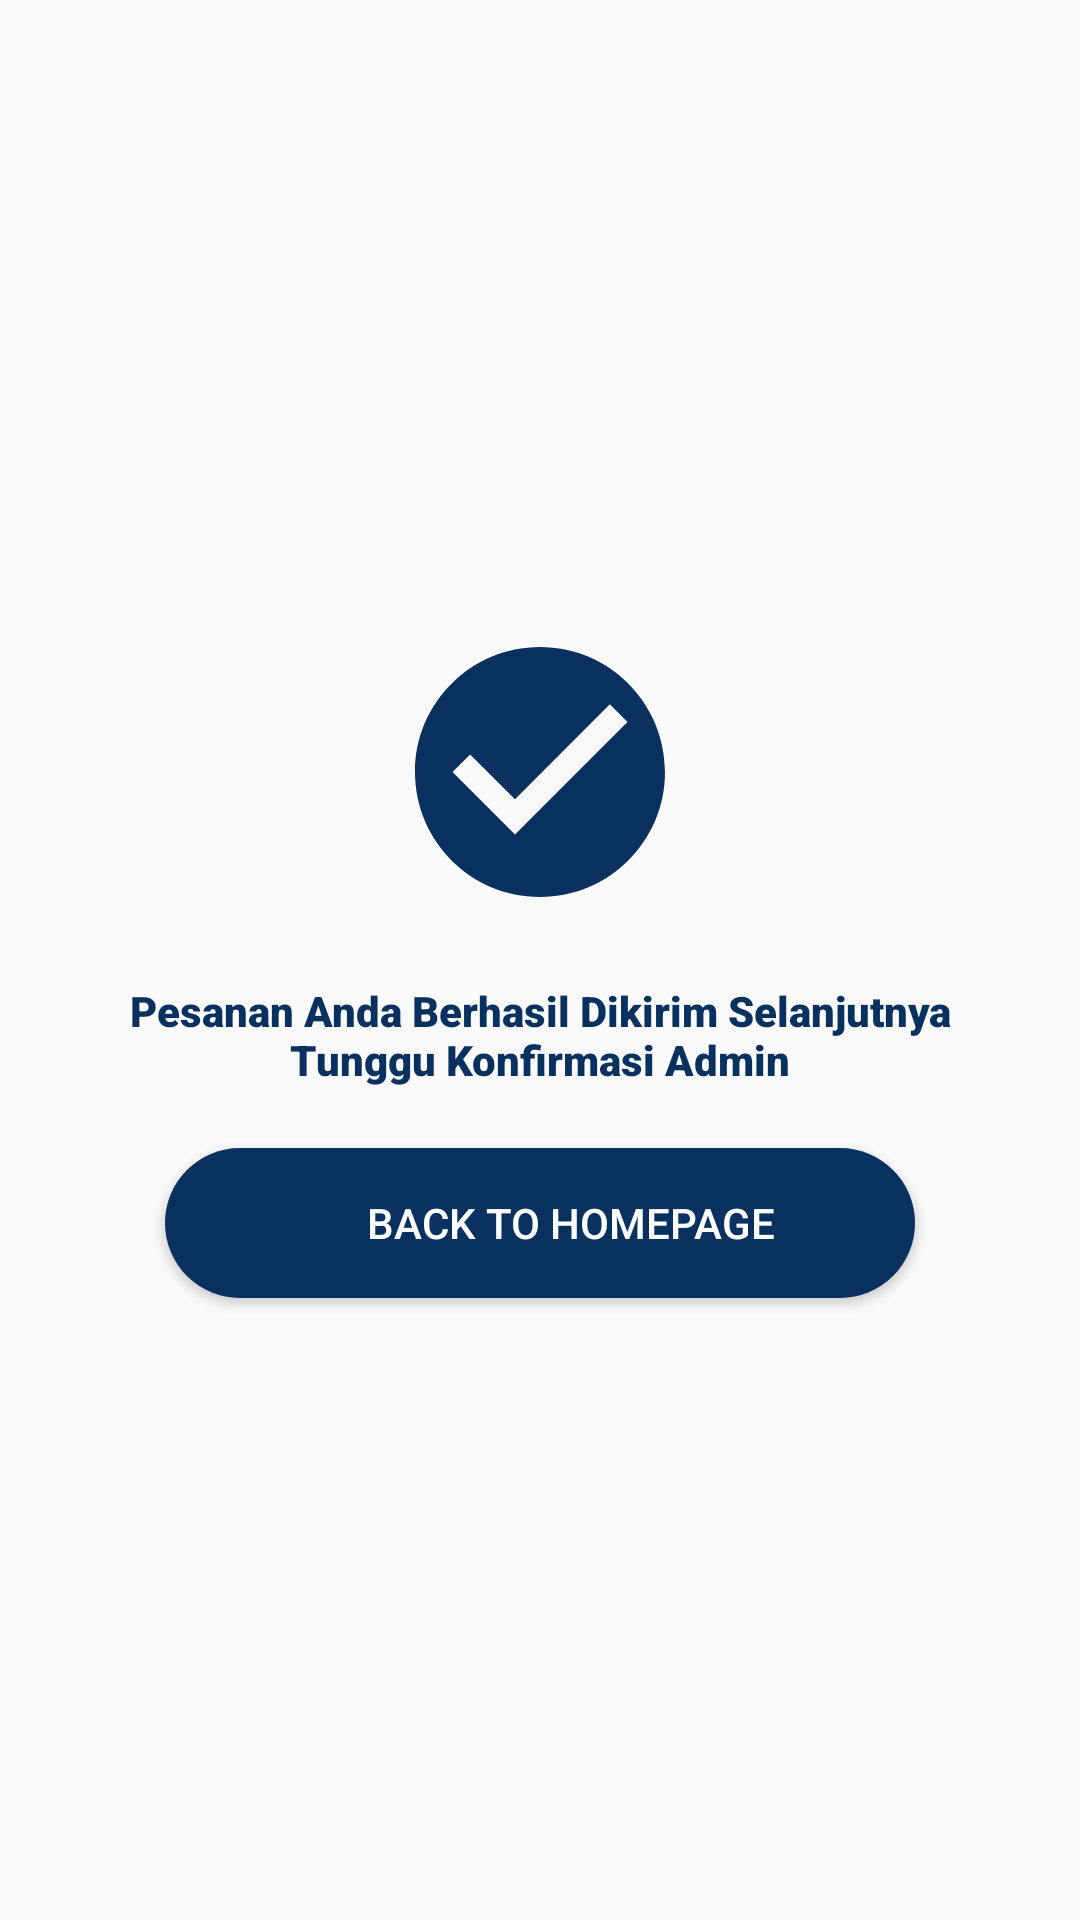

Point at icon controls on the screen. Image size 1080w x 1920h, points as point (x, y).
check circle: point (540, 772)
